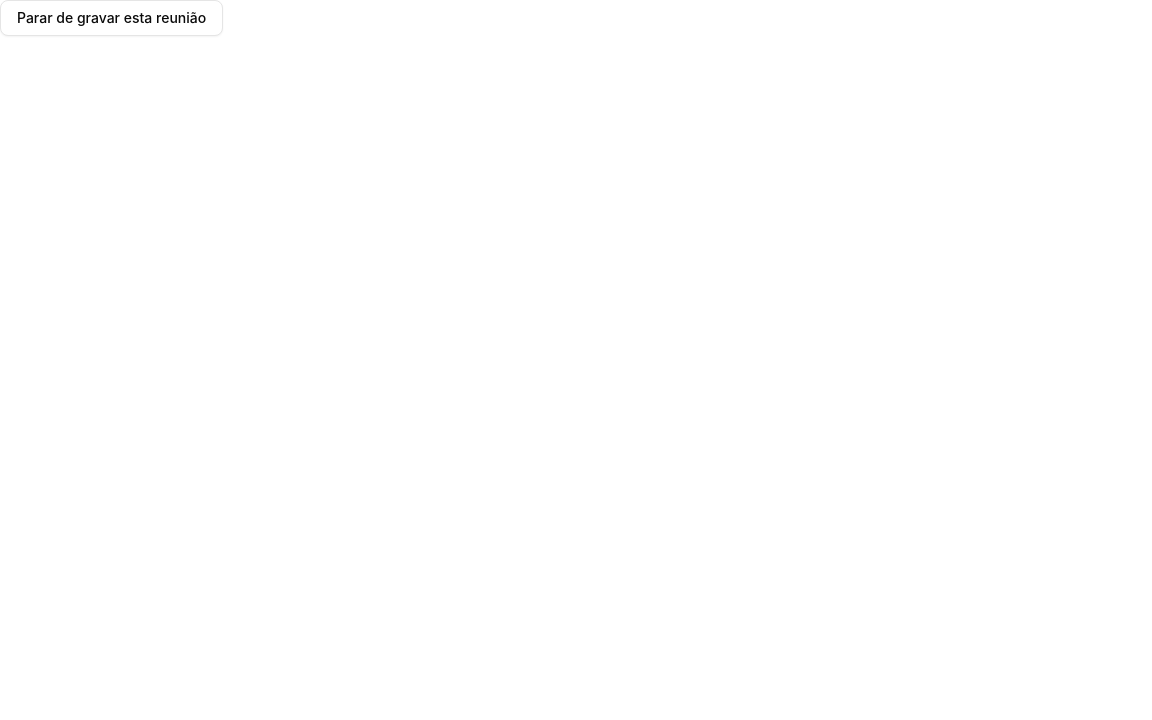
Test: StopRecordingButton › sem nada gravado: uma confirmação só
Later steps or results of the test are not shown.
Click the button "Parar de gravar esta reunião" at [112, 18], box x1=0 y1=0 x2=223 y2=36
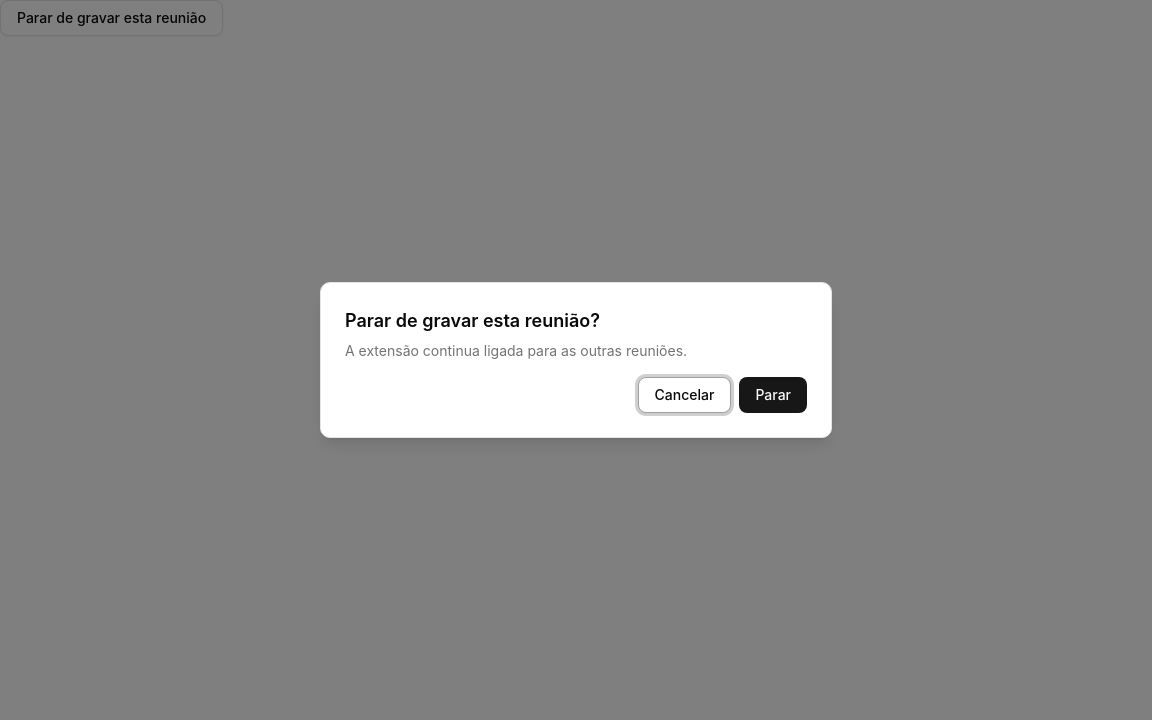
Now the heading "Parar de gravar esta reunião?" is shown, box x1=345 y1=307 x2=600 y2=335
